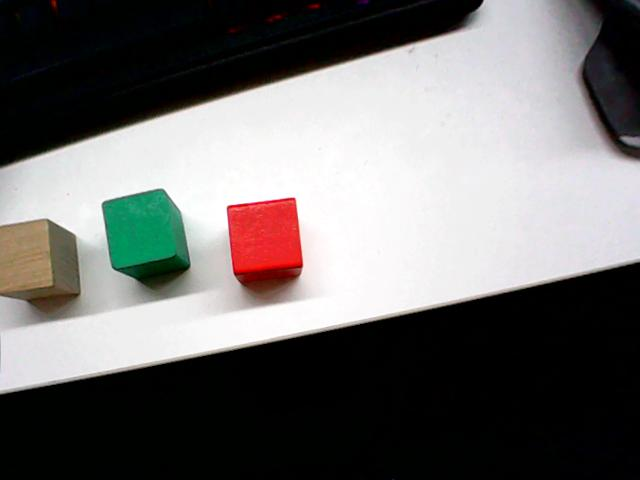green_box: (99, 184, 192, 283)
raw_box: (1, 218, 85, 305)
red_box: (223, 193, 306, 285)
